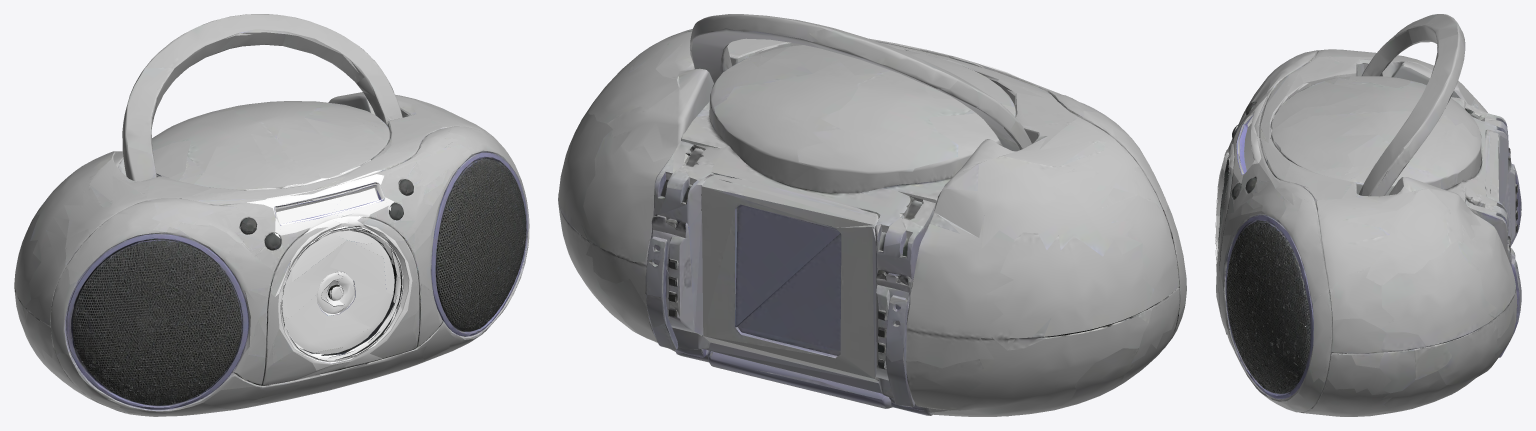
The model's file is boombox-v1.glb.
3 views of the same model, side by side, from view 1: azimuth 30°, elevation 25°; view 2: azimuth 150°, elevation 25°; view 3: azimuth 270°, elevation 25° (orthographic). The views are drawn at different scales.
Visible parts, largest first — view 1: boombox_body, boombox_disc, boombox_display; view 2: boombox_body; view 3: boombox_body, boombox_display, boombox_disc.
Boxes of the visible parts, x1,y1,x2,y2 form: boombox_body: [14, 14, 529, 416]; boombox_disc: [275, 220, 412, 380]; boombox_display: [246, 160, 394, 238]; boombox_body: [558, 14, 1186, 416]; boombox_body: [1216, 14, 1521, 416]; boombox_display: [1229, 96, 1287, 184]; boombox_disc: [1215, 148, 1229, 271].
Size of the model in its own units: 0.62 by 0.3723 by 0.3482.
2 materials, 1 textured.
